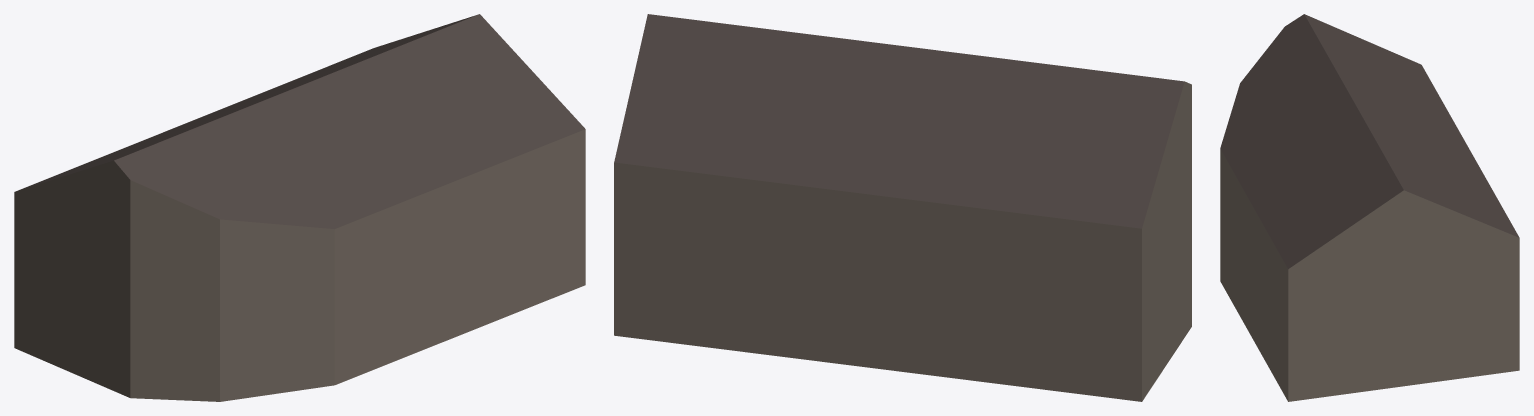
The picture shows the model from 3 angles, left to right: view 1: azimuth 30°, elevation 25°; view 2: azimuth 150°, elevation 25°; view 3: azimuth 270°, elevation 25°; orthographic projection. The views are drawn at different scales.
Visible parts, largest first — view 1: HP-w1196827504; view 2: HP-w1196827504; view 3: HP-w1196827504.
Boxes of the visible parts, box(x1,y1,x2,y2) form: HP-w1196827504: box(14, 14, 585, 401); HP-w1196827504: box(614, 14, 1191, 401); HP-w1196827504: box(1220, 14, 1519, 401).
Size of the model in its own units: 29.78 by 13.3 by 18.42.
